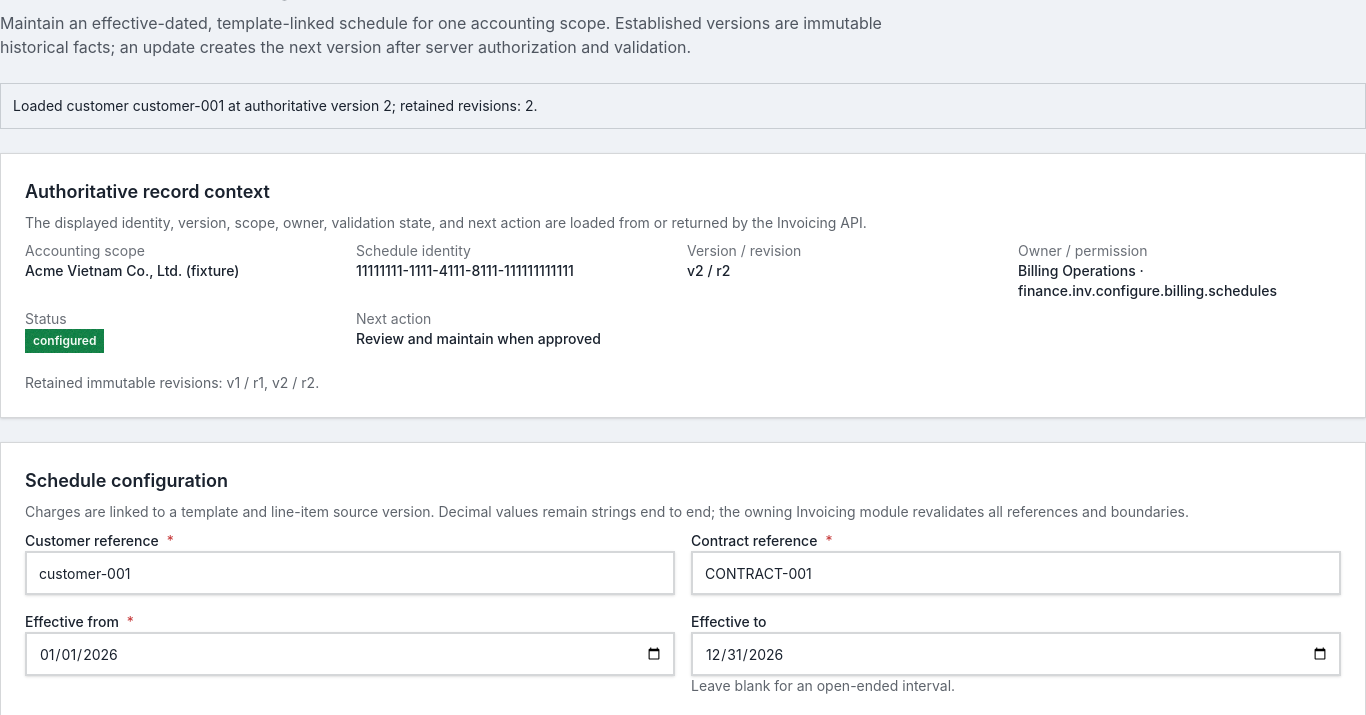
Test: billing-schedule workspace › shows a version conflict while preserving the reviewed schedule form
This screenshot has width=1366, height=715.
Replace the text in the field showing "CONTRACT-001" with "Reviewed replacement". click: (1016, 573)
box: [691,551,1341,595]
(page scrolled)
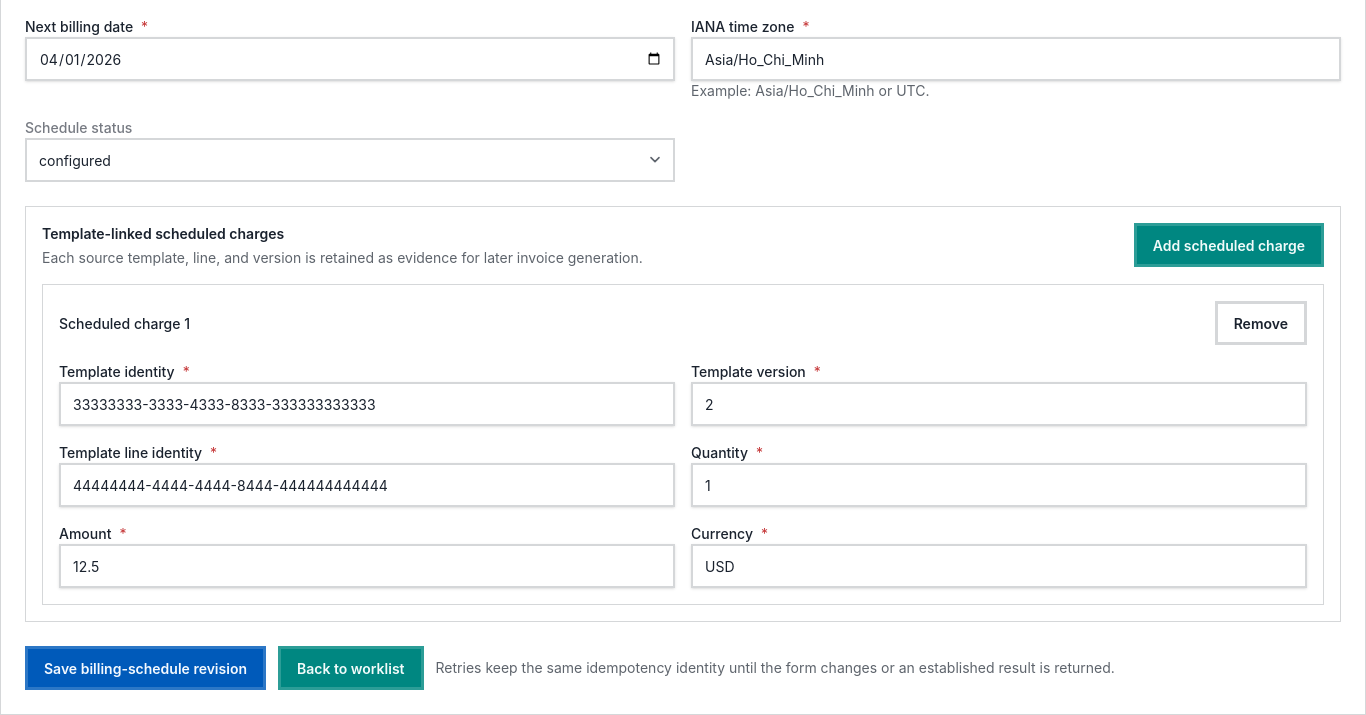
Click the button "Save billing-schedule revision". click: (146, 668)
box: [25,646,266,690]
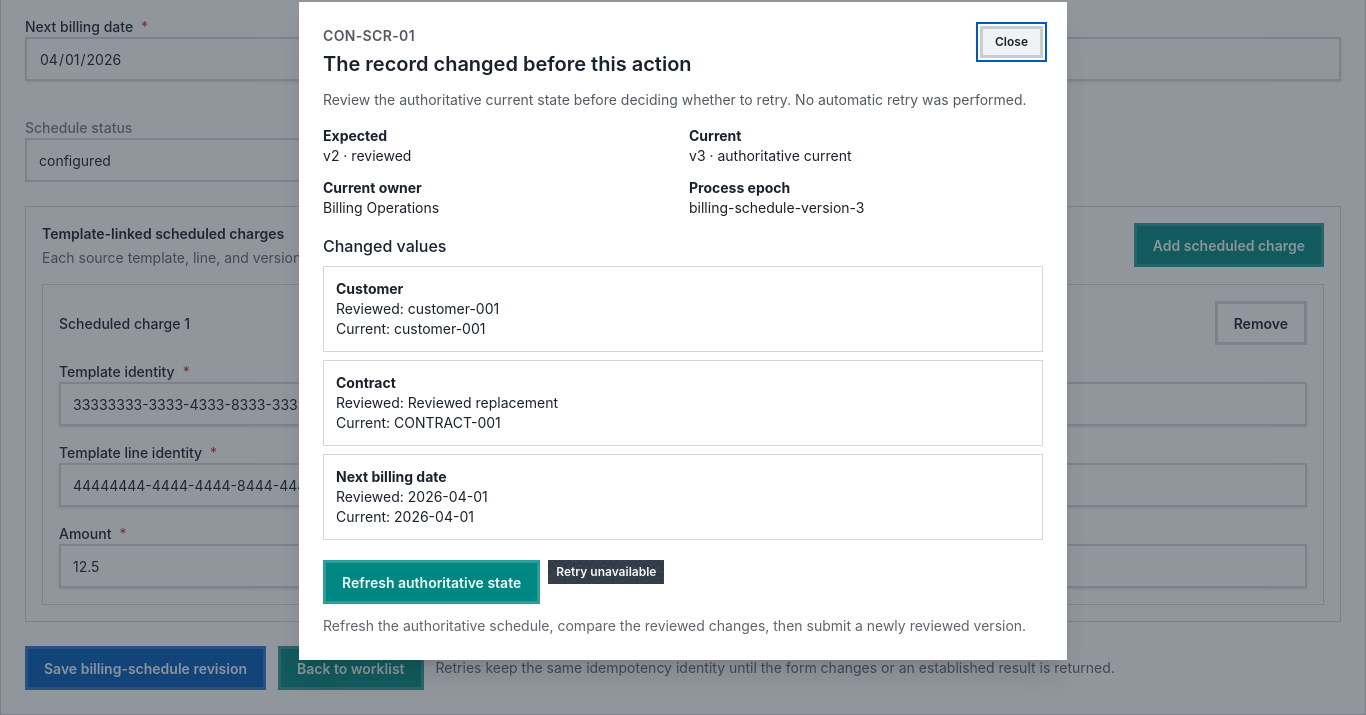
Now the dialog shows "record changed before this action", box [323,52,692,76]
Now the text "Refresh the authoritative schedule" is shown, box [323,617,1026,634]
